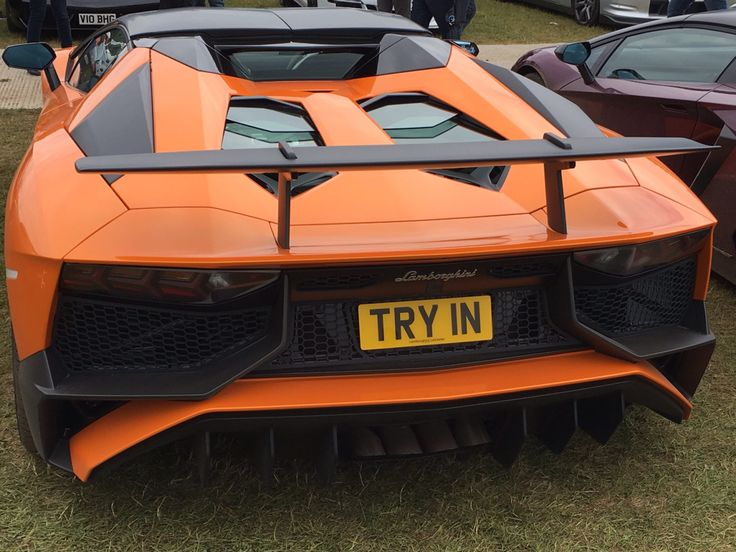plate: (354, 295, 499, 349)
